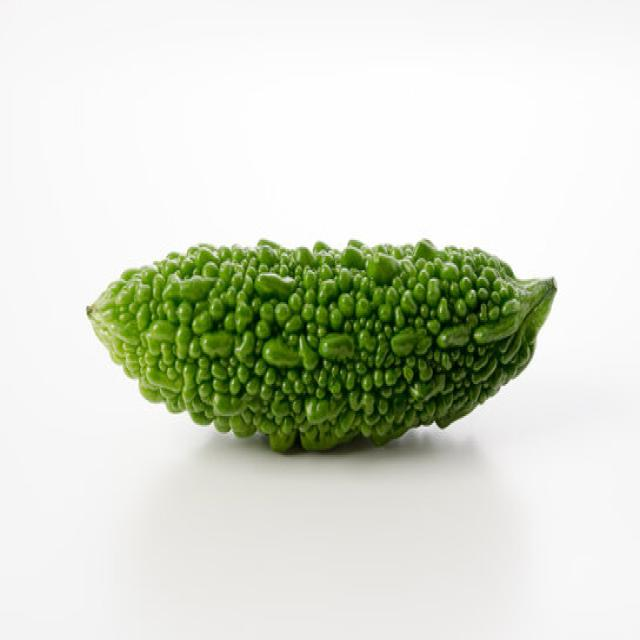Bitter_Gourd: (84, 235, 556, 453)
